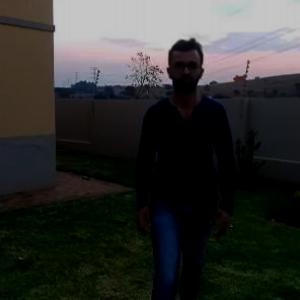follow: (141, 33, 233, 299)
